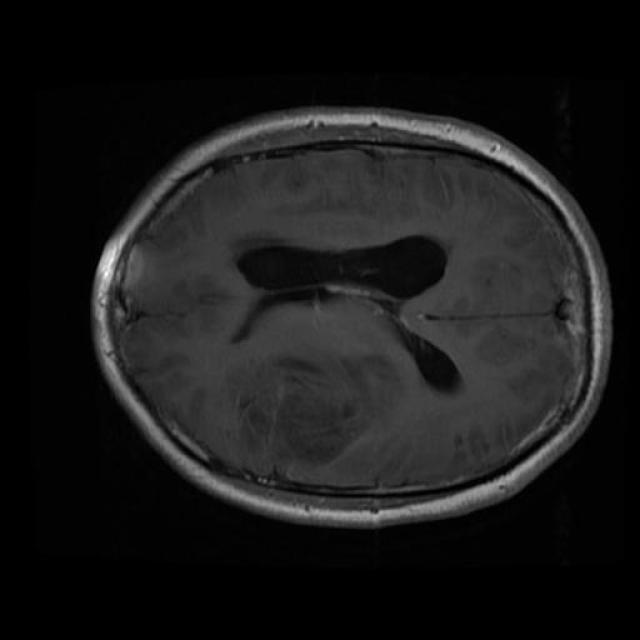Glioma: (240, 351, 402, 473)
